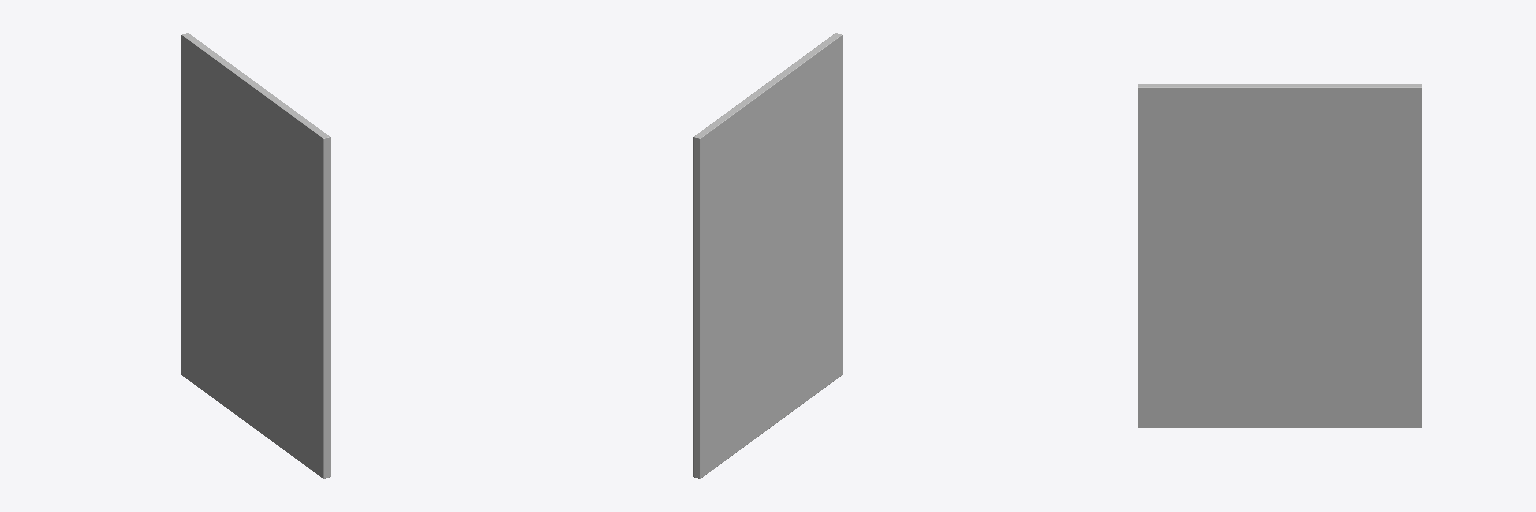
File: SM_Kitchen_Island_Cover_05.obj
3 renders of one model, left to right at view 1: azimuth 30°, elevation 25°; view 2: azimuth 150°, elevation 25°; view 3: azimuth 270°, elevation 25°, orthographic.
Parts seen in each view (by area): view 1: SM_Kitchen_Island_Cover_5; view 2: SM_Kitchen_Island_Cover_5; view 3: SM_Kitchen_Island_Cover_5.
Part boxes in pixels (left/top/right/bottom): SM_Kitchen_Island_Cover_5: left=181, top=33, right=330, bottom=478; SM_Kitchen_Island_Cover_5: left=693, top=33, right=842, bottom=478; SM_Kitchen_Island_Cover_5: left=1138, top=84, right=1421, bottom=427.
Bounding box in the file's own units: 2 × 89.79 × 67.98.